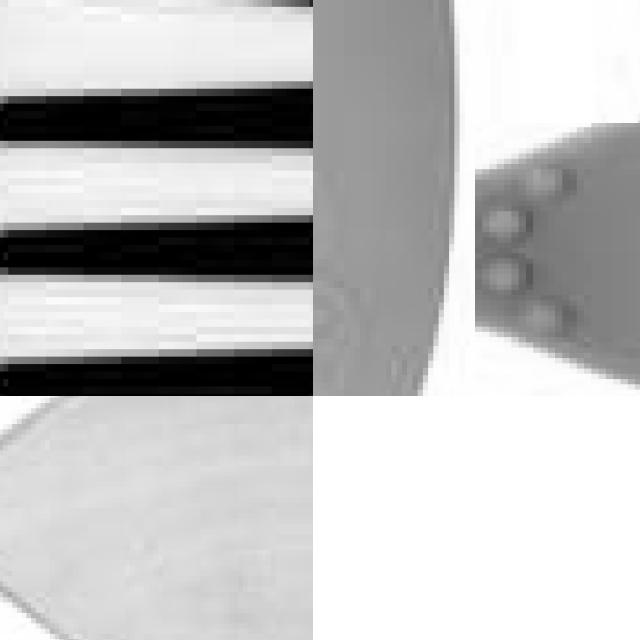forks: (0, 0, 313, 396)
spoons: (0, 396, 313, 640), (538, 60, 640, 396)
